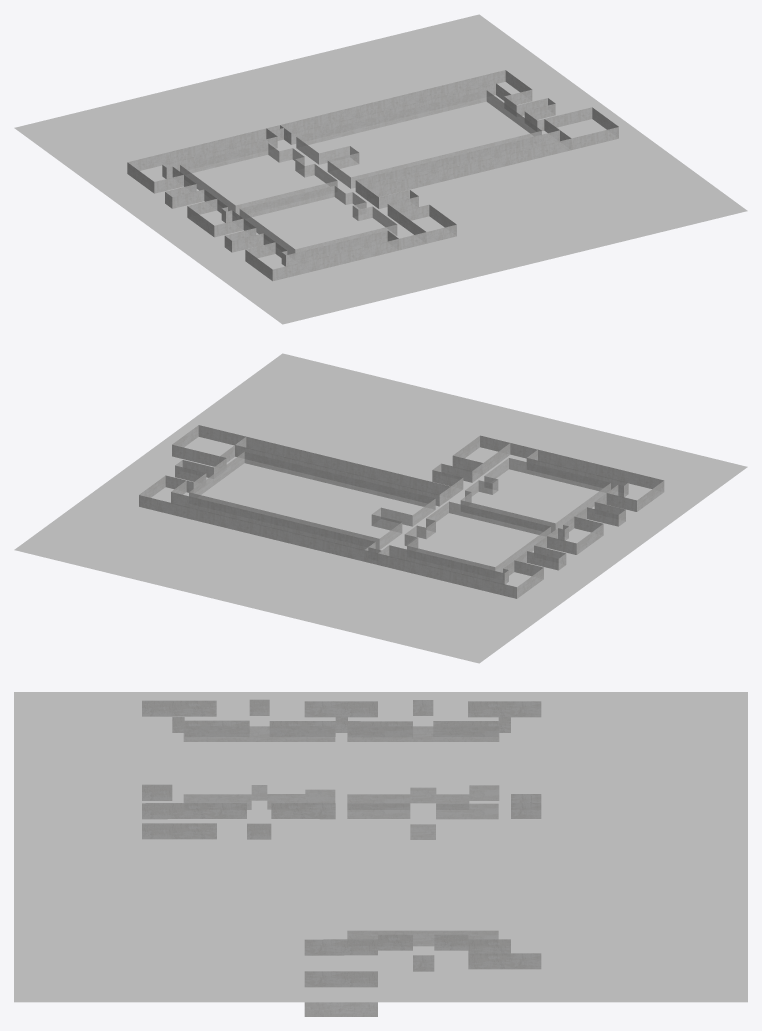
File: Tietotalo1_3krs_doublesided.fbx
3 views of the same model, one above another, from view 1: azimuth 30°, elevation 25°; view 2: azimuth 150°, elevation 25°; view 3: azimuth 270°, elevation 25° (orthographic). The views are drawn at different scales.
Parts seen in each view (by area): view 1: Floor, Walls_outer, Walls_inner3, Walls_inner2, Walls_inner; view 2: Floor, Walls_outer, Walls_inner3, Walls_inner, Walls_inner2; view 3: Floor, Walls_outer, Walls_inner2, Walls_inner, Walls_inner3.
Part boxes in pixels (x1,y1,x2,y2): Floor: [14, 14, 747, 324]; Walls_outer: [127, 70, 618, 281]; Walls_inner3: [296, 90, 541, 188]; Walls_inner2: [180, 143, 337, 215]; Walls_inner: [239, 185, 397, 254]; Floor: [14, 353, 747, 663]; Walls_outer: [139, 425, 664, 598]; Walls_inner3: [189, 451, 435, 549]; Walls_inner: [460, 458, 610, 532]; Walls_inner2: [404, 501, 550, 572]; Floor: [14, 692, 747, 1002]; Walls_outer: [142, 699, 541, 1016]; Walls_inner2: [347, 726, 499, 809]; Walls_inner: [183, 726, 335, 809]; Walls_inner3: [347, 803, 498, 946].
Bounding box in the file's own units: 1470 × 101 × 1470.
